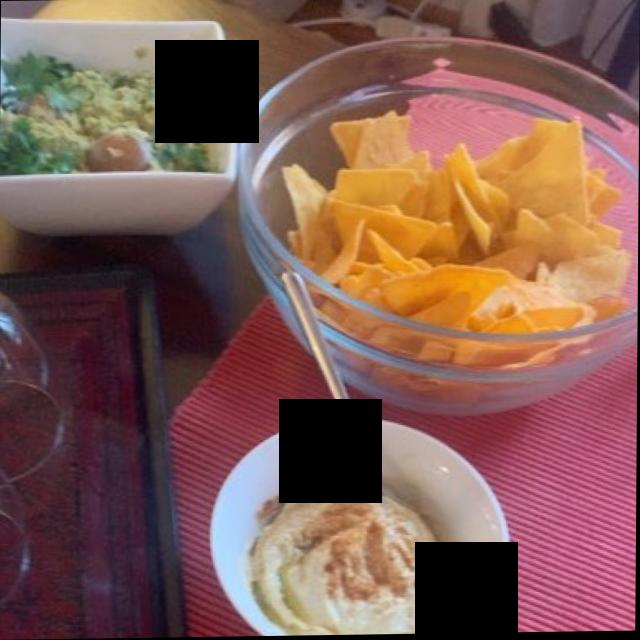corn-crisps: (297, 113, 624, 333)
guacamole: (2, 50, 214, 166)
hummus: (250, 480, 446, 629)
